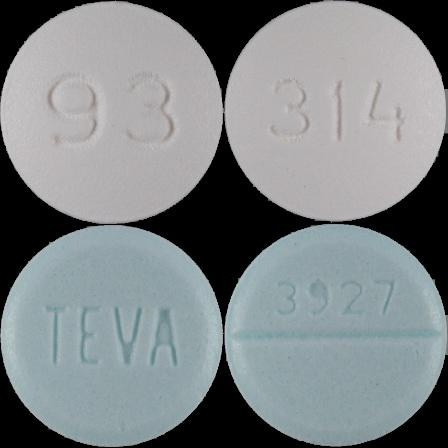68788-9205: (0, 0, 224, 224)
